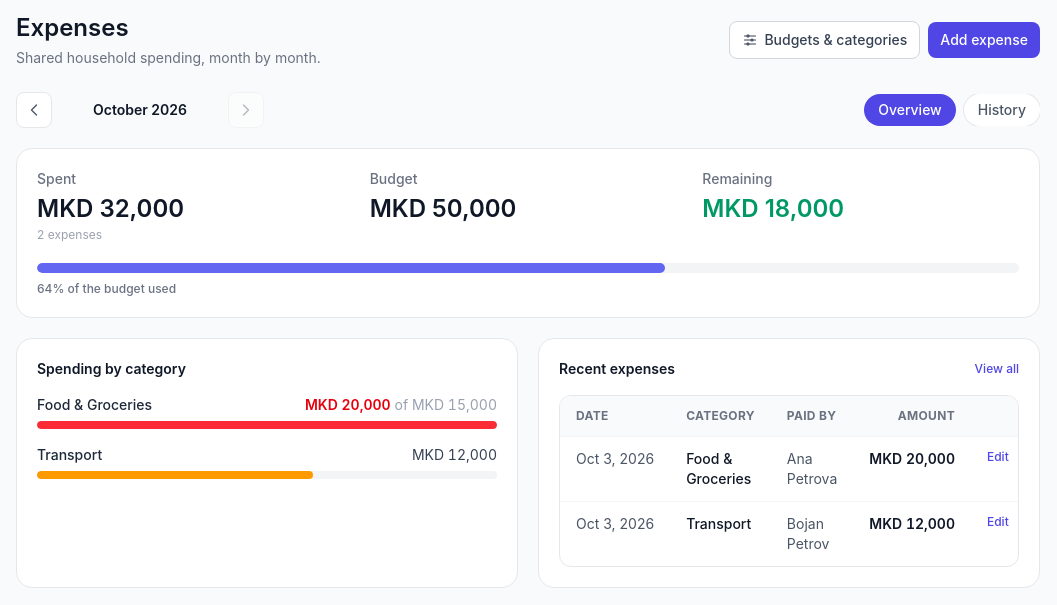
Expenses page › doesn't show the previous month's numbers while the new month is loading
Check: the element named "Monthly summary" is shown, box [16,148,1040,318]
What coordinates should you click on to do the following:
click the button named "Previous month"
I would click on:
 (34, 110)
Its box is [16,92,52,128].
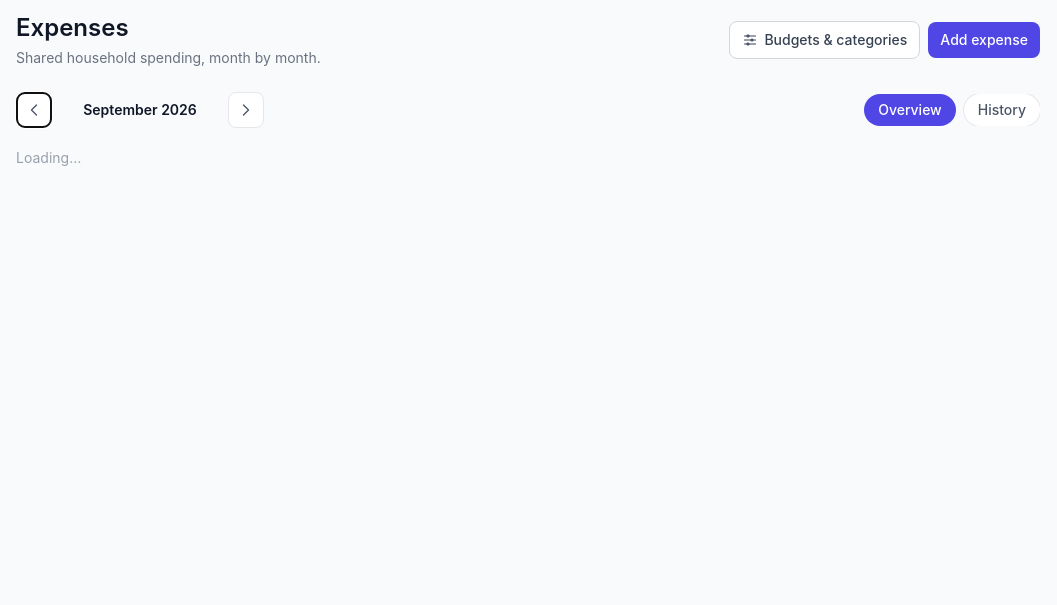
Check: the text "Loading…" is shown, box [16,149,81,166]
